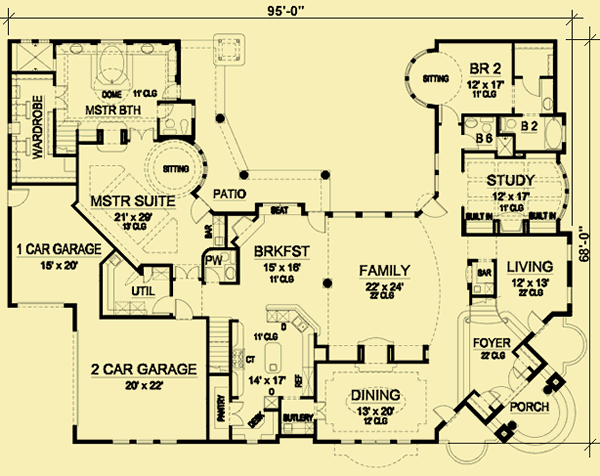door: (488, 366, 528, 405), (188, 195, 211, 224), (421, 197, 450, 219), (526, 309, 548, 337), (307, 208, 328, 235), (52, 83, 71, 112), (6, 187, 31, 209), (172, 296, 194, 320), (171, 264, 202, 281), (127, 125, 156, 142), (522, 75, 543, 98), (151, 294, 173, 315), (438, 103, 459, 124), (432, 404, 455, 422), (231, 399, 245, 428), (203, 267, 225, 285), (460, 132, 480, 150)
large_sink: (130, 42, 166, 57), (498, 115, 520, 133), (479, 117, 495, 136), (161, 118, 177, 136)
small_sink: (128, 42, 167, 56), (57, 43, 96, 56)
stairs: (401, 46, 433, 107), (206, 314, 233, 375), (53, 117, 79, 157)
tub: (98, 44, 127, 85), (542, 115, 562, 150)
windows: (336, 437, 414, 448), (108, 436, 182, 446), (432, 151, 441, 195)
